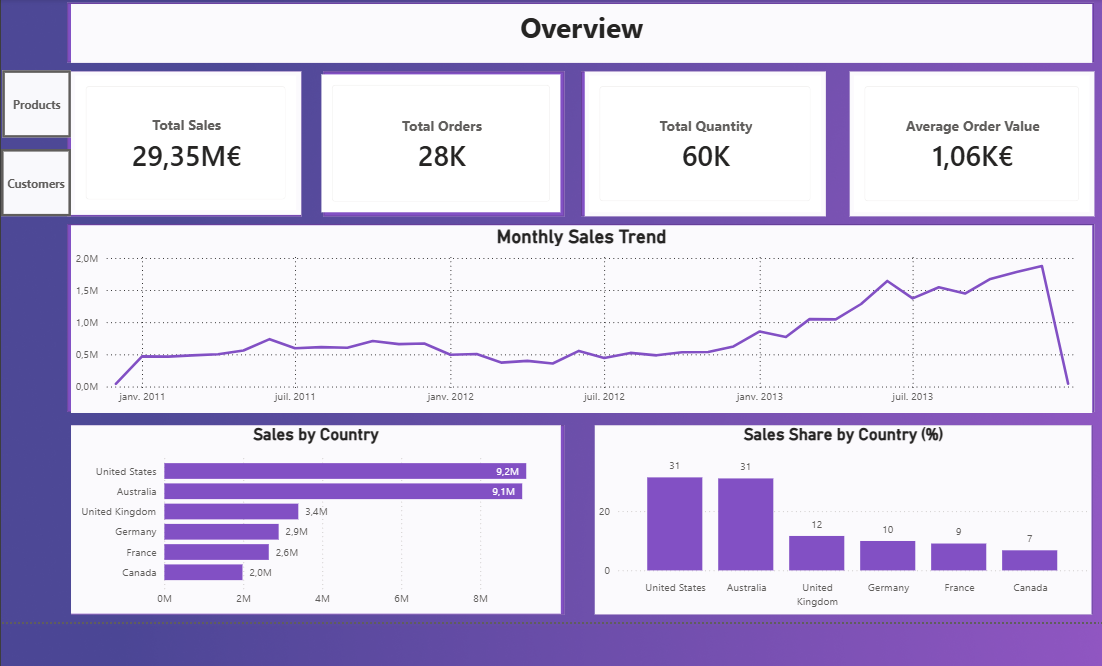

This screenshot's page, from the dashboard's own definition file:
{"tool":"powerbi","page":{"name":"Overview","canvas":[1280,720],"ordinal":0},"visuals":[{"type":"shape","box":[77,83.7,270.1,167.5],"z":0},{"type":"shape","box":[372.7,83.7,278.2,167.5],"z":1000},{"type":"shape","box":[669.8,83.7,282.3,167.5],"z":2000},{"type":"shape","box":[980.5,83.7,282.3,167.5],"z":3000},{"type":"shape","box":[77,4.1,1185.7,68.9],"z":4000},{"type":"cardVisual","fields":{"Data":["Measures Table.Total orders"]},"box":[365.7,82.1,286.1,169.2],"z":5000},{"type":"cardVisual","fields":{"Data":["Measures Table.Average order value"]},"box":[980,83.7,282.3,167.5],"z":6000},{"type":"cardVisual","fields":{"Data":["Measures Table.Total quantity"]},"box":[673.9,83.7,278.2,167.5],"z":7000},{"type":"cardVisual","fields":{"Data":["Measures Table.Total sales"]},"box":[80.8,83.7,265.6,166],"z":8000},{"type":"shape","box":[76,260,1186,217],"z":9000},{"type":"shape","box":[81,491.6,569.9,218.8],"z":10000},{"type":"lineChart","title":"Monthly Sales Trend","fields":{"Y":["Sum(vw_monthly_sales_growth.total_sales_that_month)"],"Category":["vw_monthly_sales_growth.month_trunc.Variation.Hiérarchie de dates.Année","vw_monthly_sales_growth.month_trunc.Variation.Hiérarchie de dates.Mois","vw_monthly_sales_growth.month_trunc.Variation.Hiérarchie de dates.Jour"]},"box":[80.8,261.3,1179.3,216.5],"z":11000},{"type":"shape","box":[687.4,491.6,574,218.8],"z":12000},{"type":"clusteredBarChart","title":"Sales by Country","fields":{"Category":["vw_country_sales_performance.country"],"Y":["Sum(vw_country_sales_performance.total_sales_per_country)"]},"box":[80.8,492.2,565.8,218],"z":13000},{"type":"clusteredColumnChart","title":"Sales Share by Country (%)","fields":{"Category":["vw_country_sales_performance.country"],"Y":["Sum(vw_country_sales_performance.percentage_sales_of_all_countries)"]},"box":[686.1,491.6,574,218.8],"z":14000},{"type":"textbox","box":[80.8,5.8,1179.3,67.8],"z":15000},{"type":"actionButton","box":[1.4,82.3,79.4,77.9],"z":15001},{"type":"actionButton","box":[0,173.2,80.8,77.9],"z":15002}]}

Visuals, with their boxes on the page's 1280x720 design canvas (x1, y1, x2, y2). These are canvas units, not pixel positions in the 1102x666 screenshot, which may show the page scaled, cropped or inside an application window:
shape: [77,84,347,251]
shape: [373,84,651,251]
shape: [670,84,952,251]
shape: [980,84,1263,251]
shape: [77,4,1263,73]
cardVisual - Measures Table.Total orders: [366,82,652,251]
cardVisual - Measures Table.Average order value: [980,84,1262,251]
cardVisual - Measures Table.Total quantity: [674,84,952,251]
cardVisual - Measures Table.Total sales: [81,84,346,250]
shape: [76,260,1262,477]
shape: [81,492,651,710]
"Monthly Sales Trend" lineChart: [81,261,1260,478]
shape: [687,492,1261,710]
"Sales by Country" clusteredBarChart: [81,492,647,710]
"Sales Share by Country (%)" clusteredColumnChart: [686,492,1260,710]
textbox: [81,6,1260,74]
actionButton: [1,82,81,160]
actionButton: [0,173,81,251]
